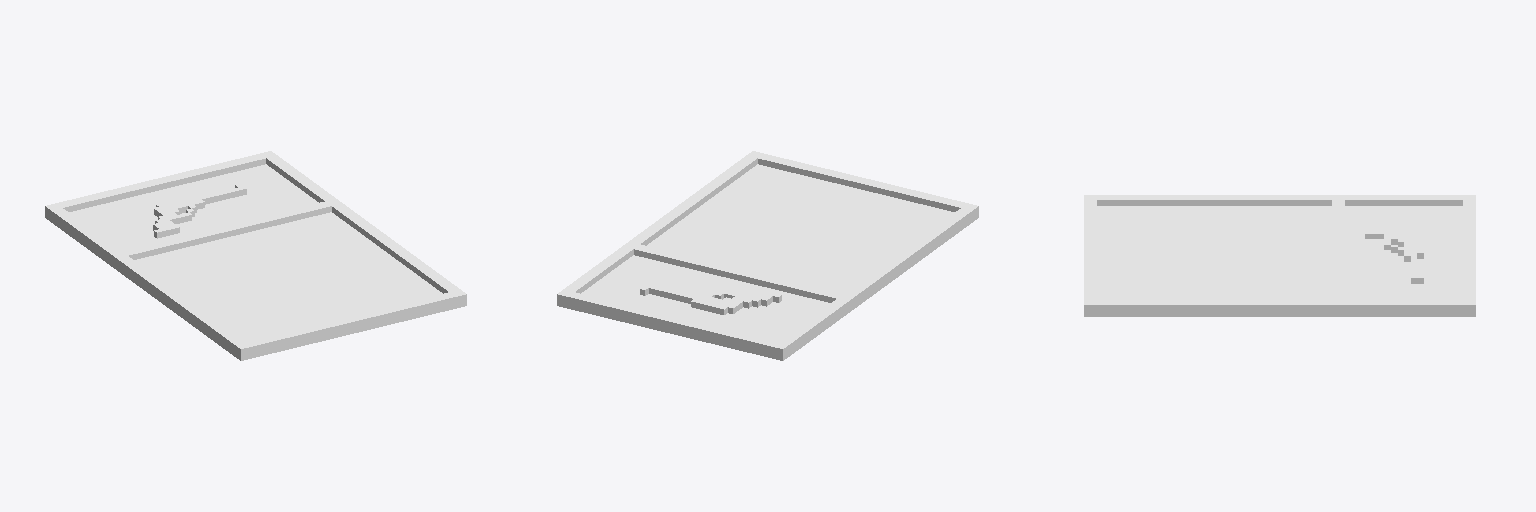
File: tile20.obj
3 views of the same model, side by side, from view 1: azimuth 30°, elevation 25°; view 2: azimuth 150°, elevation 25°; view 3: azimuth 270°, elevation 25° (orthographic).
Visible parts, largest first — view 1: object 1; view 2: object 1; view 3: object 1.
Boxes of the visible parts, x1=… form: object 1: x1=45, y1=151, x2=466, y2=360; object 1: x1=557, y1=151, x2=978, y2=360; object 1: x1=1084, y1=195, x2=1475, y2=316.
Size of the model in its own units: 4 by 0.2 by 6.